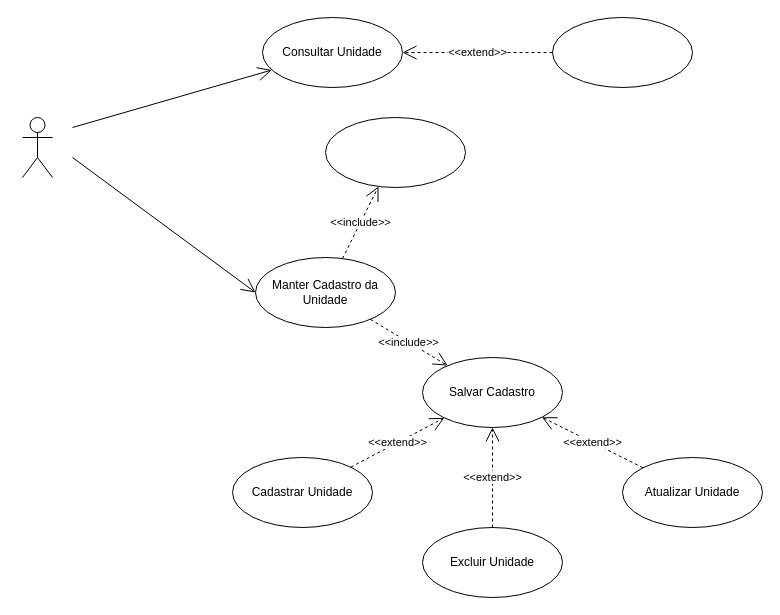
Some shapes in this 780 by 615 pixel diagram are drawn without their labels. The shapes that lost their labels are listed below. From the top down, each one's centre as x and y in pixels, then its label:
(x=622, y=52): Consultar Unidade Por ID
(x=37, y=147): Usuario
(x=395, y=152): Validar Unidades
